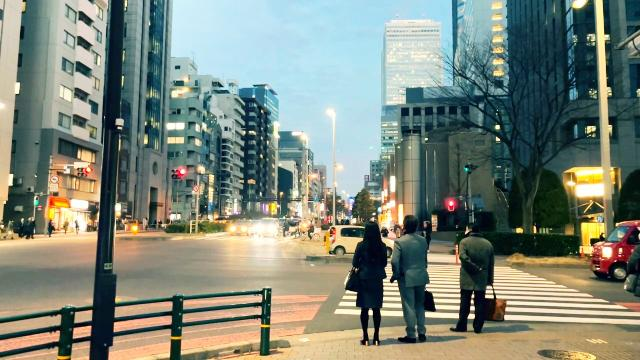berdiri: (446, 217, 500, 337), (342, 212, 388, 352), (390, 213, 436, 345)
